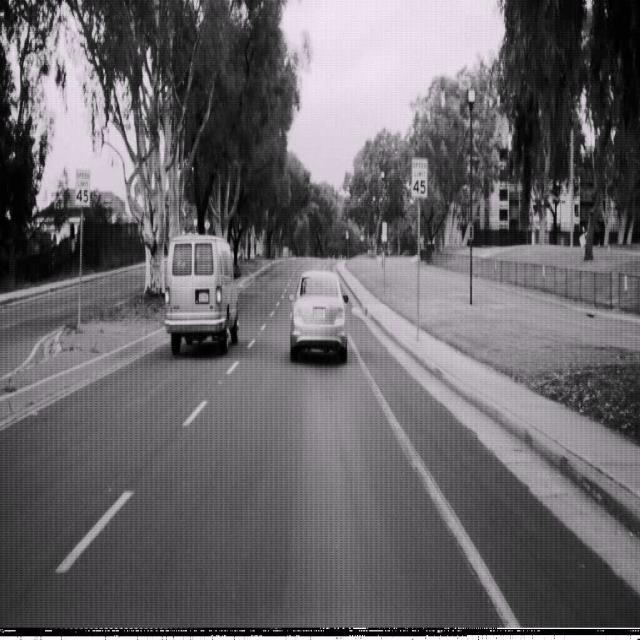speedLimit45: (411, 157, 428, 200), (75, 166, 92, 207)
